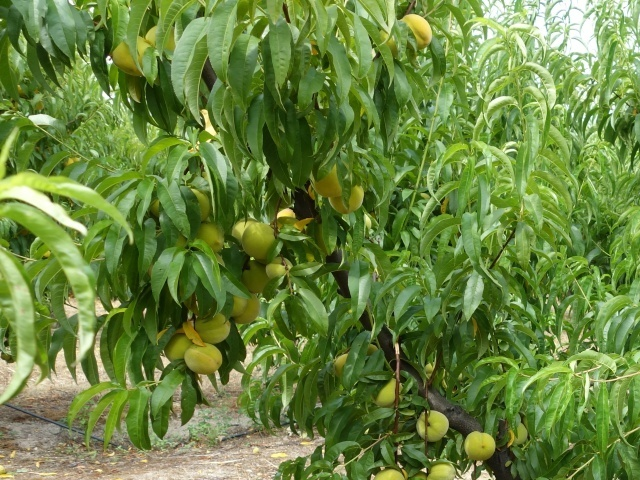peach: (107, 33, 159, 80), (182, 342, 227, 380), (309, 160, 351, 199), (412, 406, 452, 445), (138, 24, 185, 57), (240, 223, 281, 260), (324, 181, 368, 215), (190, 312, 234, 346), (399, 14, 439, 50), (461, 428, 499, 465), (236, 260, 274, 294), (191, 218, 224, 254), (368, 378, 404, 409), (258, 254, 295, 284), (160, 331, 193, 363), (235, 296, 266, 329), (222, 215, 257, 243), (330, 350, 353, 381), (505, 422, 532, 447), (425, 460, 458, 480), (371, 464, 408, 480)
